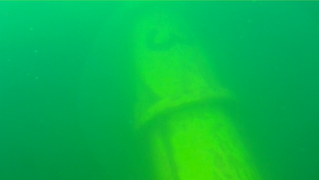3: (145, 27, 194, 51)
pipe: (120, 1, 262, 179)
